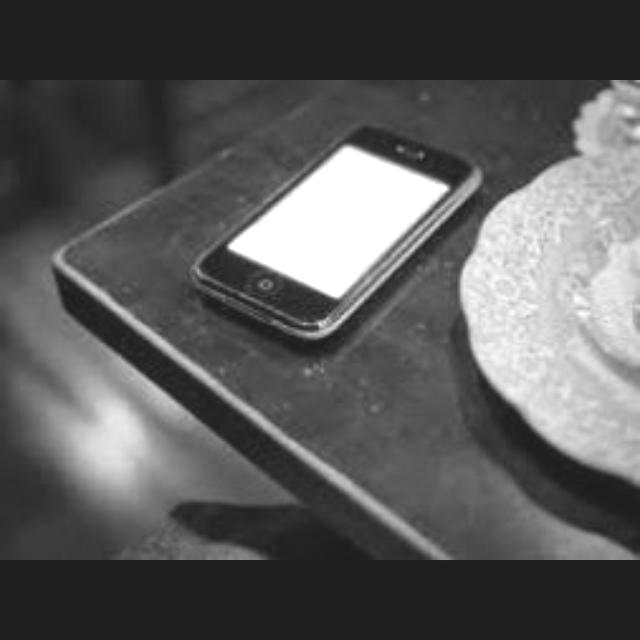fake: (202, 131, 454, 345)
